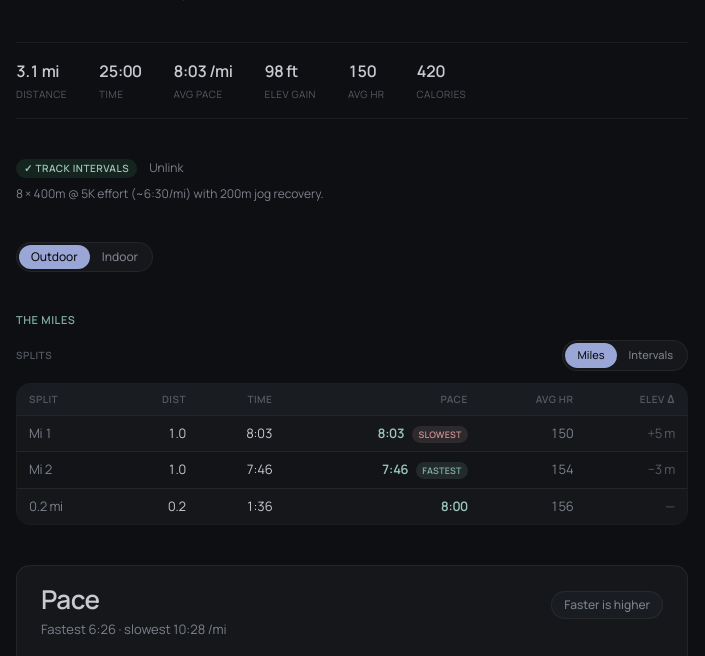
Scenario: RunningDetailPage — splits ledger › Step 2c: flips to the intervals table when the toggle is clicked
This screenshot has width=705, height=656.
(page scrolled)
expect the text "Mi 1" is shown: met, box x1=17 y1=415 x2=116 y2=452
Click the button "intervals": (651, 355) x1=616 y1=343 x2=685 y2=368
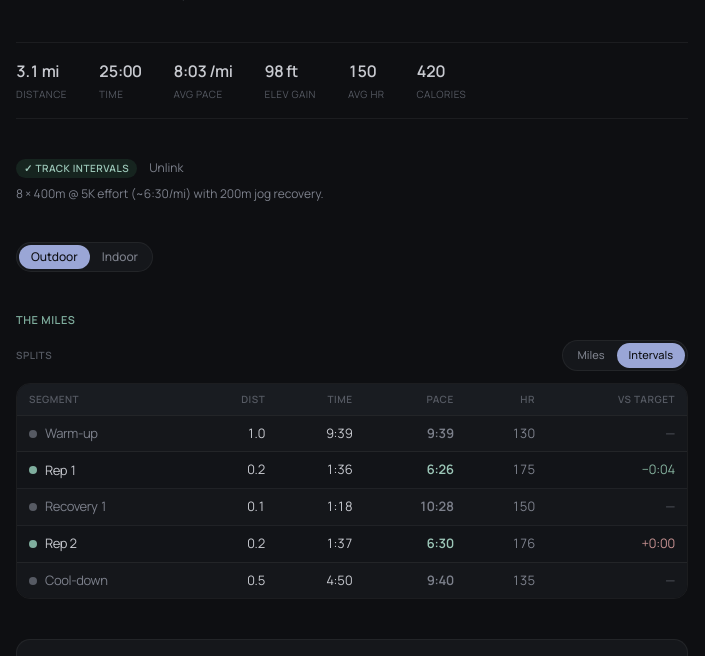
expect the text "Warm-up" is shown: met, box x1=45 y1=424 x2=98 y2=443
expect the text "Rep 1" is shown: met, box x1=45 y1=460 x2=77 y2=480
